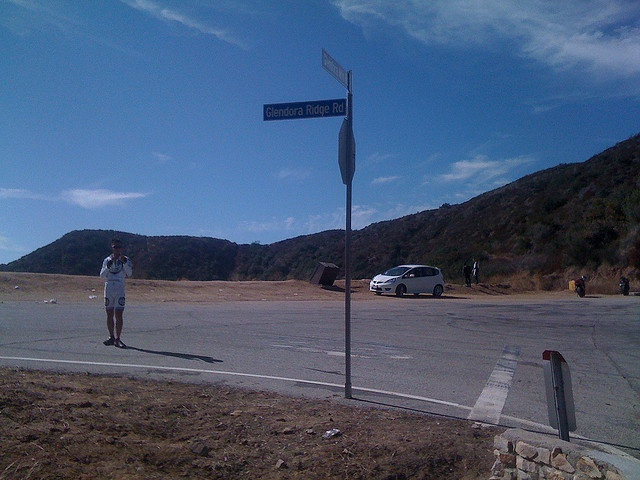non-vehicle: (618, 276, 630, 296), (574, 284, 585, 297)
